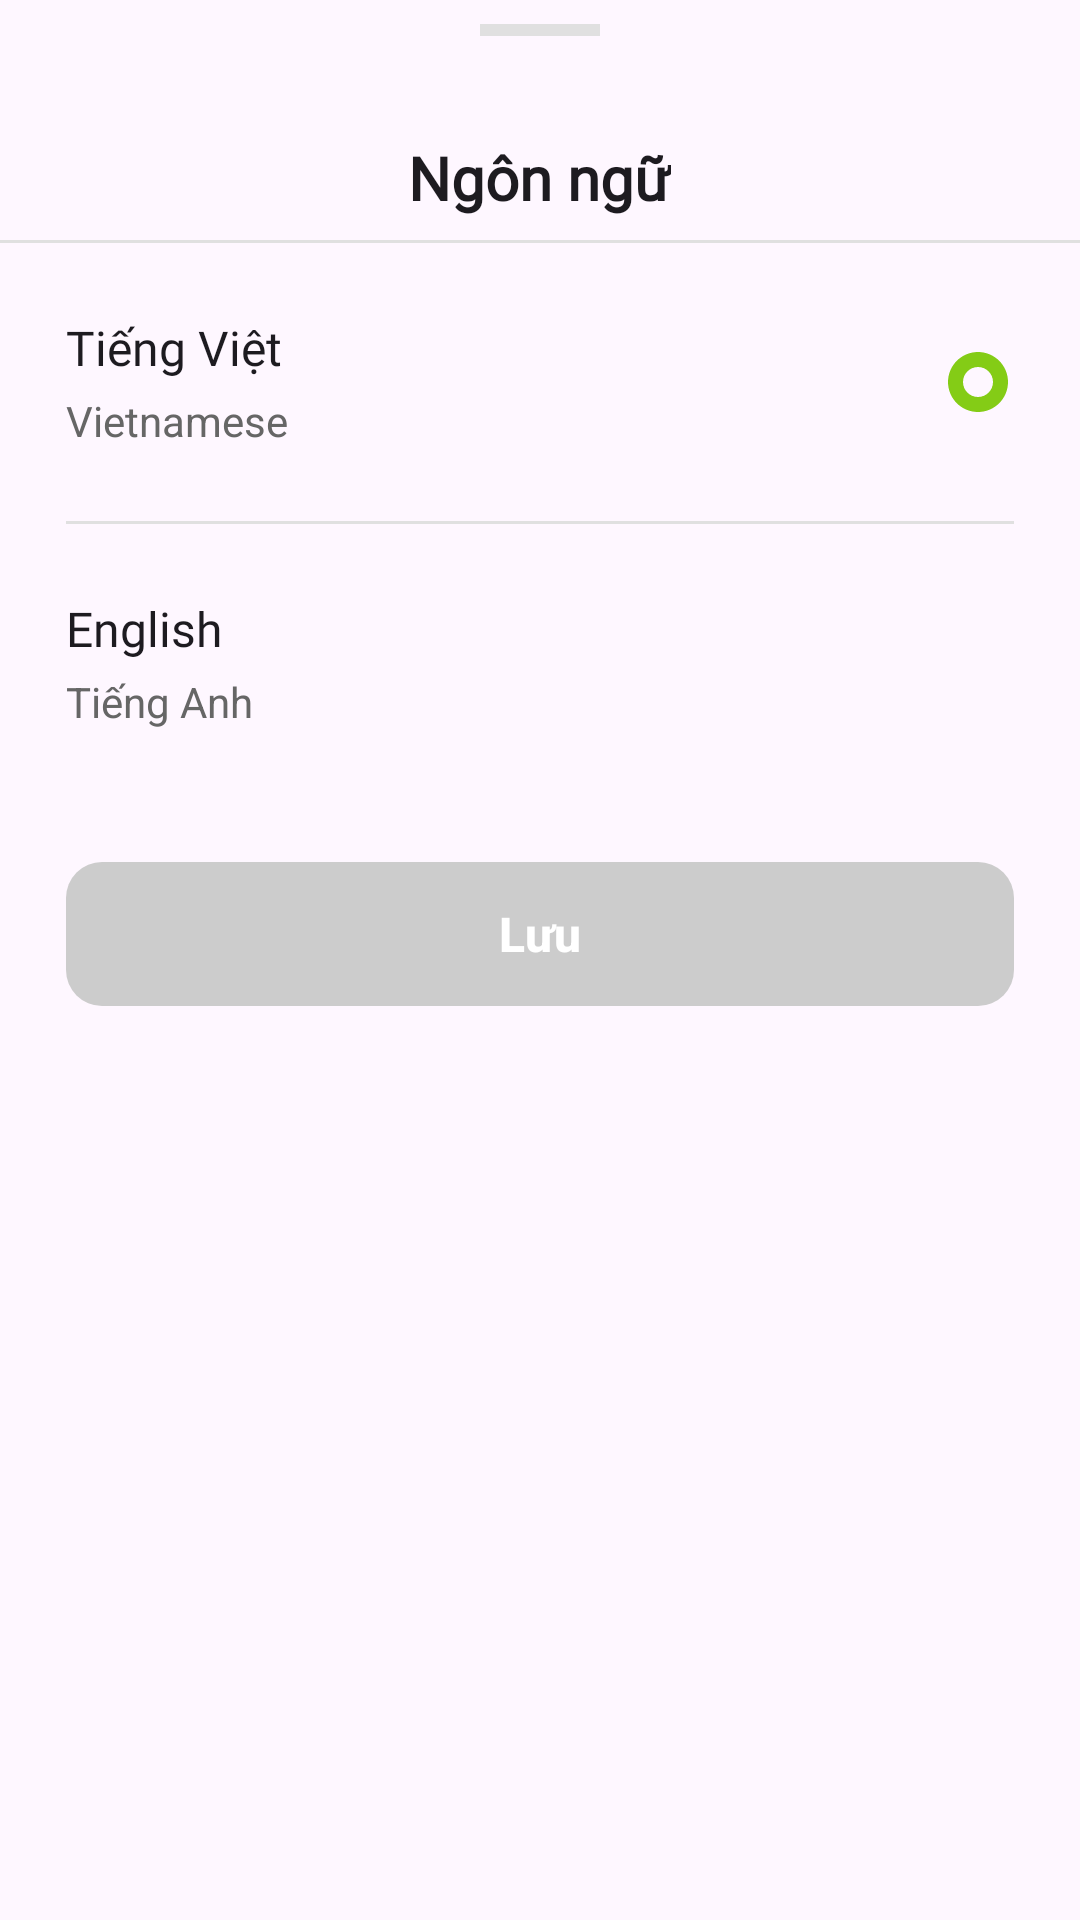

Named icons in this screenshot (1080px×1920px) and their bounding boxes, (x1, y1, x2, y2):
radio checked: (948, 352, 1008, 412)
